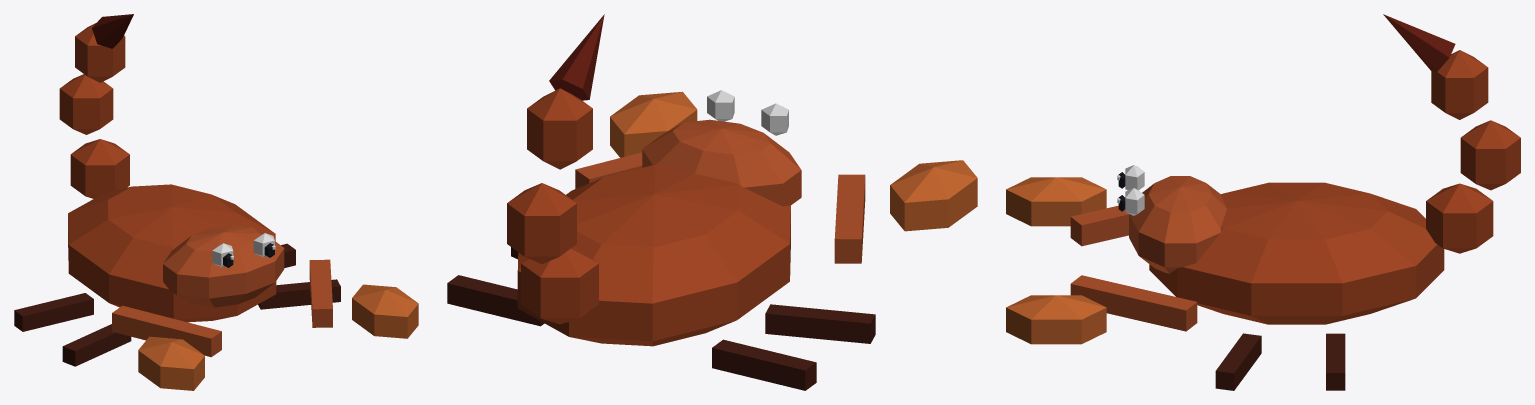
Rendered from critter_scorpion.glb.
3 renders of one model, left to right at view 1: azimuth 30°, elevation 25°; view 2: azimuth 150°, elevation 25°; view 3: azimuth 270°, elevation 25°, orthographic. The views are drawn at different scales.
Parts seen in each view (by area): view 1: scorpion; view 2: scorpion; view 3: scorpion.
Boxes of the visible parts, bbox=[...] form: scorpion: bbox=[14, 14, 418, 390]; scorpion: bbox=[447, 14, 977, 390]; scorpion: bbox=[1006, 14, 1520, 390].
Size of the model in its own units: 0.9241 by 0.8572 by 1.33.
